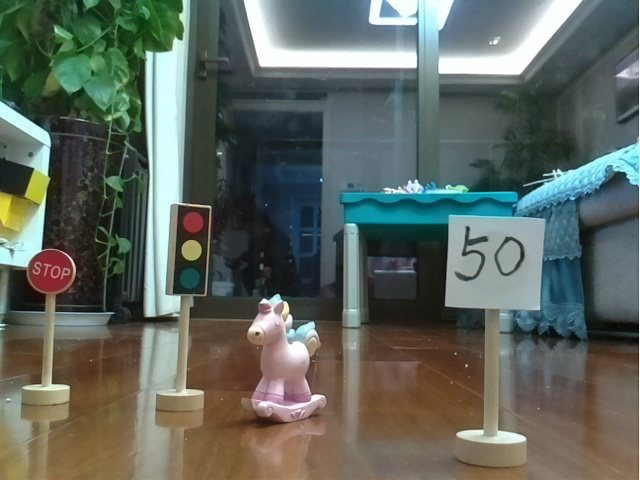Horse: (238, 288, 335, 425)
Red Traffic Light: (151, 197, 211, 418)
Speed Limit 50: (434, 208, 553, 470)
Stop Sign: (16, 244, 81, 412)
